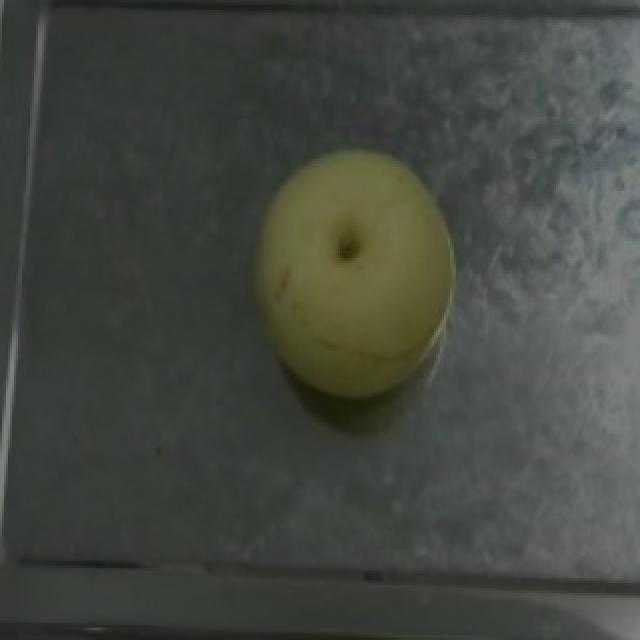Fruit: (236, 134, 472, 409)
